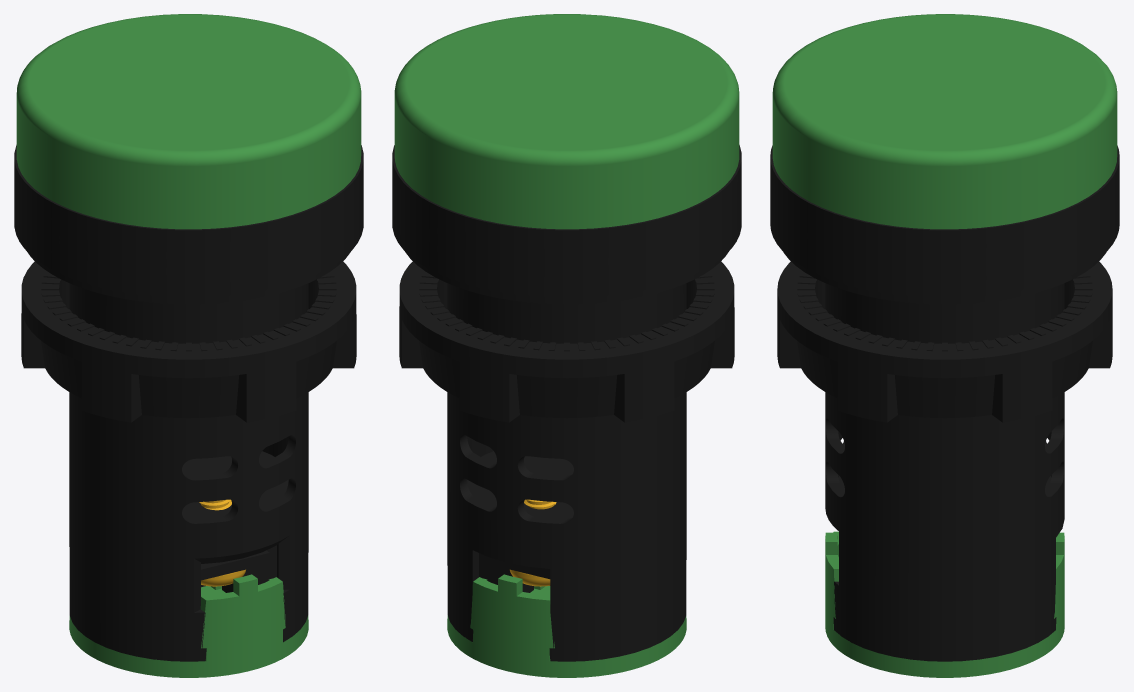
The model's file is AD16-22DS Pilot LightGREEN.fbx.
3 renders of one model, left to right at view 1: azimuth 30°, elevation 25°; view 2: azimuth 150°, elevation 25°; view 3: azimuth 270°, elevation 25°, orthographic.
Parts seen in each view (by area): view 1: Body1, Body2, Body3, Body4, Body5, Body6; view 2: Body1, Body2, Body3, Body4, Body8, Body7; view 3: Body1, Body2, Body3, Body4.
Part boxes in pixels (x1,y1,x2,y2): Body1: [14, 145, 363, 661]; Body2: [16, 14, 361, 229]; Body3: [21, 261, 356, 422]; Body4: [69, 574, 308, 677]; Body5: [201, 550, 269, 580]; Body6: [199, 499, 245, 586]; Body1: [392, 145, 741, 661]; Body2: [394, 14, 739, 229]; Body3: [399, 261, 734, 422]; Body4: [447, 574, 686, 677]; Body8: [510, 499, 556, 586]; Body7: [486, 556, 550, 579]; Body1: [770, 145, 1119, 661]; Body2: [772, 14, 1117, 229]; Body3: [777, 261, 1112, 422]; Body4: [825, 531, 1064, 677].
Bounding box in the file's own units: 29.2 × 50.2 × 29.2.
